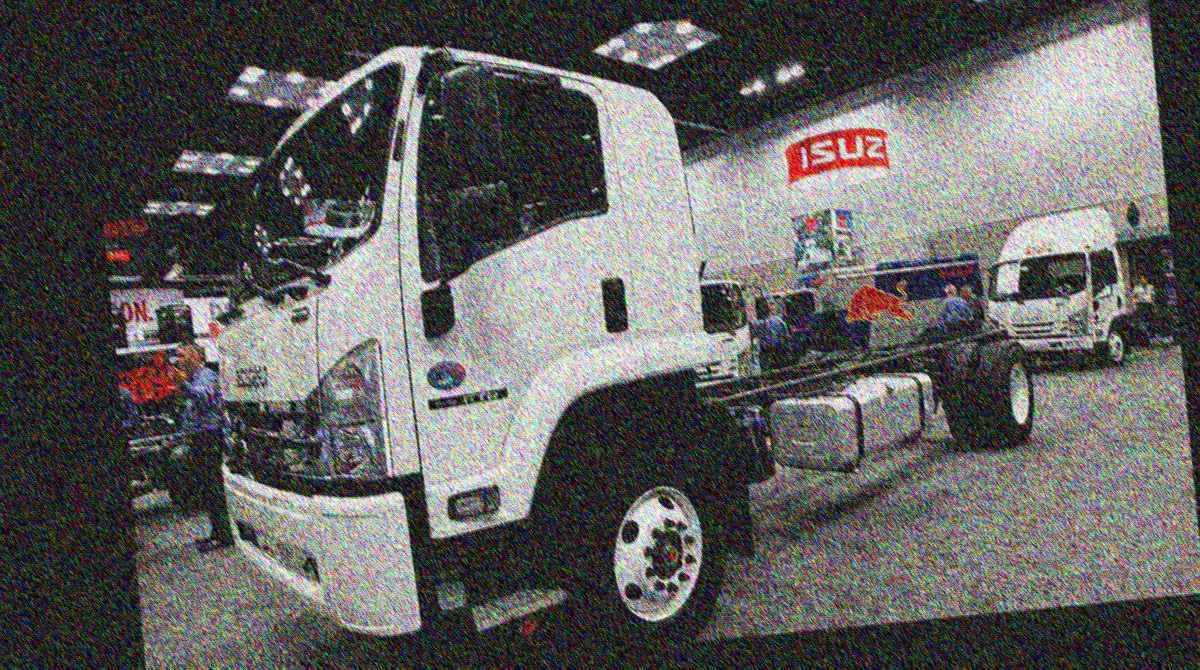truck: (183, 0, 1052, 670)
